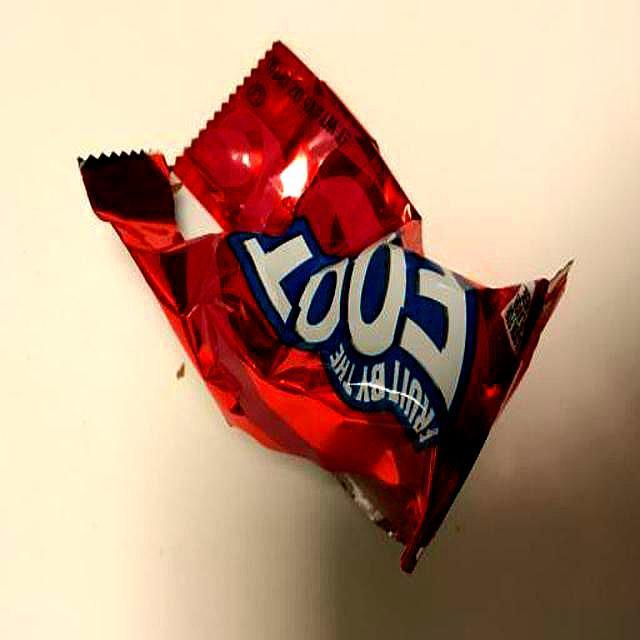Non-biodegradable: (77, 39, 576, 576)
